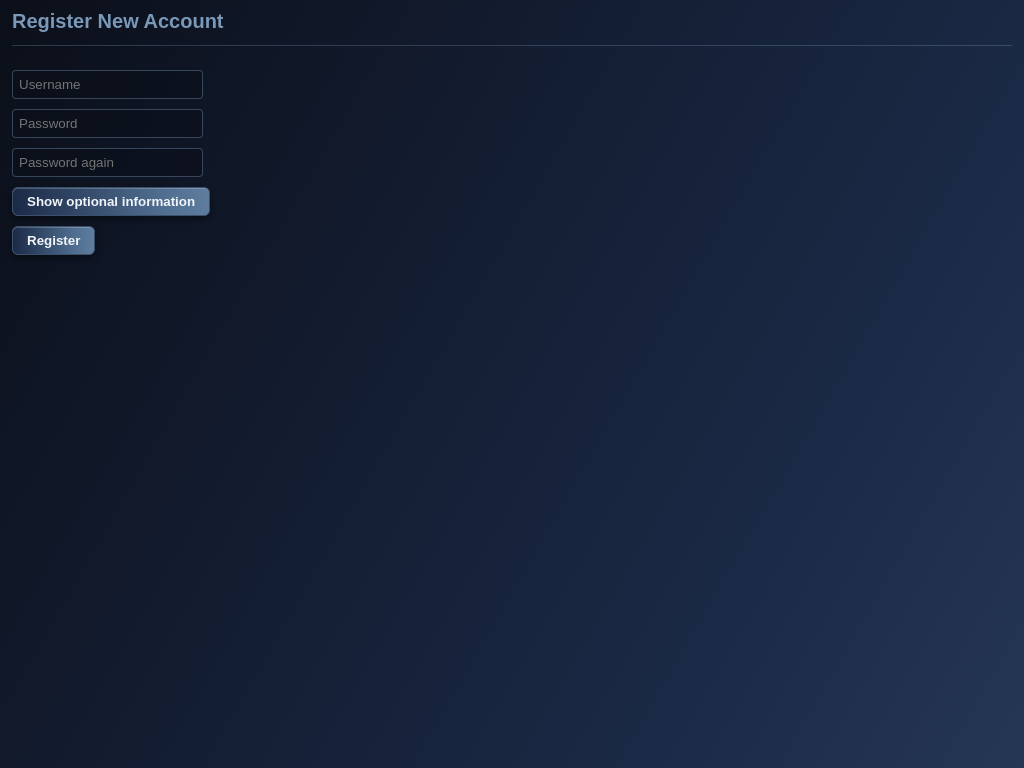
renders basic fields and handles optional info visibility toggle
The image size is (1024, 768).
Expected: the field with placeholder "Username" is shown, top-left (12, 70), bottom-right (203, 99)
Expected: the field with placeholder "Email (optional)" is not shown
Click the button "Show optional information" at (111, 202), box top-left (12, 187), bottom-right (210, 216)
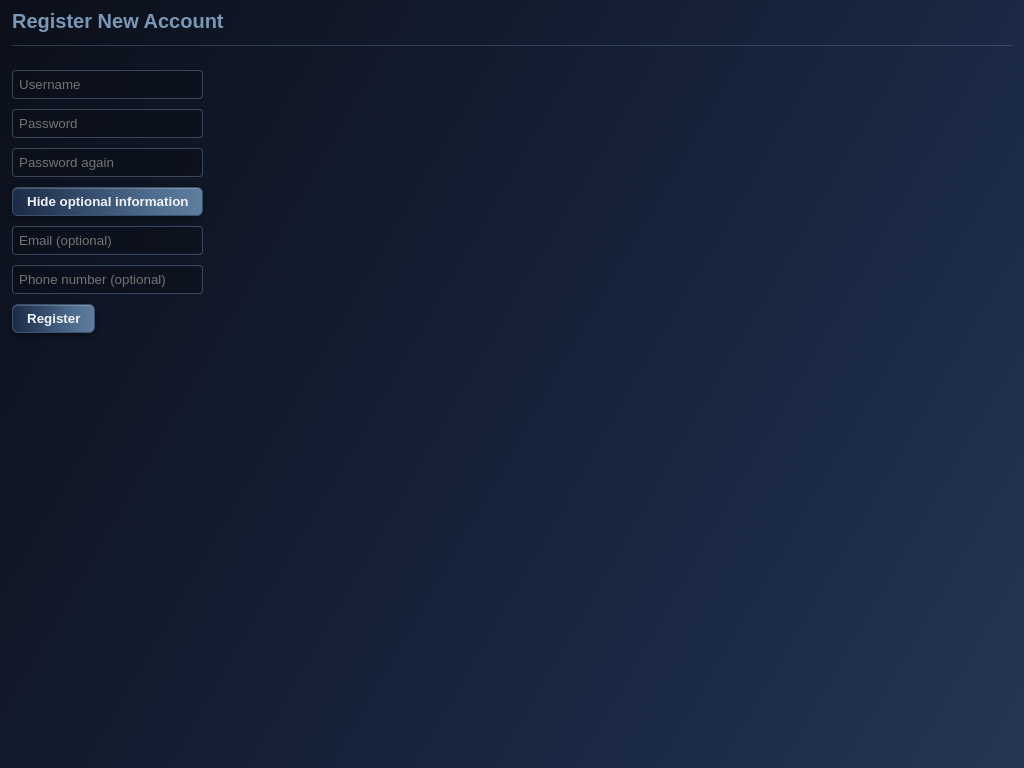
Expected: the field with placeholder "Email (optional)" is shown, top-left (12, 226), bottom-right (203, 255)
